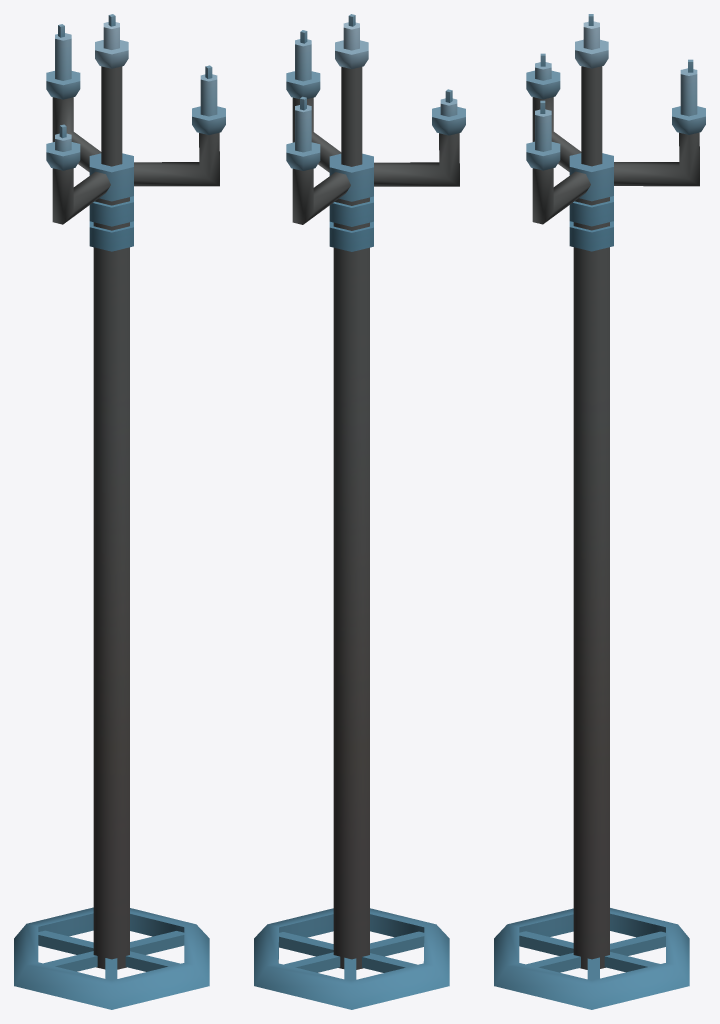
File: Candle_Stand_01.fbx
3 views of the same model, side by side, from view 1: azimuth 30°, elevation 25°; view 2: azimuth 150°, elevation 25°; view 3: azimuth 270°, elevation 25° (orthographic).
Parts seen in each view (by area): view 1: Candle_Stand_01.001; view 2: Candle_Stand_01.001; view 3: Candle_Stand_01.001.
Part boxes in pixels (<box>): Candle_Stand_01.001: <box>14,14,225,1009</box>; Candle_Stand_01.001: <box>254,14,465,1009</box>; Candle_Stand_01.001: <box>494,14,705,1009</box>.
Bounding box in the file's own units: 40.76 × 189 × 38.25.
